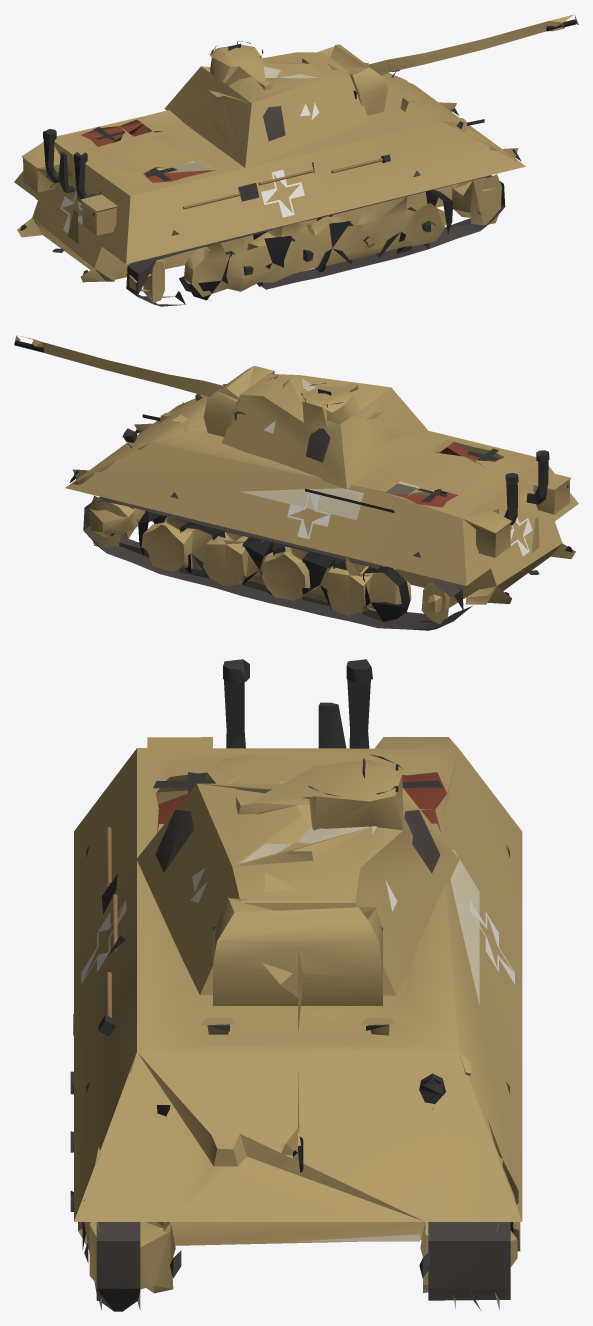
File: panther_lod3.glb
The picture shows the model from 3 angles, top to bottom: view 1: azimuth 30°, elevation 25°; view 2: azimuth 150°, elevation 25°; view 3: azimuth 270°, elevation 25°; orthographic projection. The views are drawn at different scales.
Parts seen in each view (by area): view 1: hull, turret_mesh, gun_mesh; view 2: hull, turret_mesh, gun_mesh; view 3: hull, turret_mesh, gun_mesh.
Boxes of the visible parts, x1=… form: hull: x1=14, y1=62, x2=525, y2=306; turret_mesh: x1=164, y1=41, x2=369, y2=167; gun_mesh: x1=316, y1=14, x2=578, y2=115; hull: x1=65, y1=384, x2=578, y2=630; turret_mesh: x1=222, y1=373, x2=427, y2=489; gun_mesh: x1=14, y1=335, x2=274, y2=436; hull: x1=70, y1=659, x2=522, y2=1311; turret_mesh: x1=136, y1=754, x2=459, y2=995; gun_mesh: x1=213, y1=898, x2=382, y2=1174.
Size of the model in its own units: 8.89 by 3.04 by 3.29.
